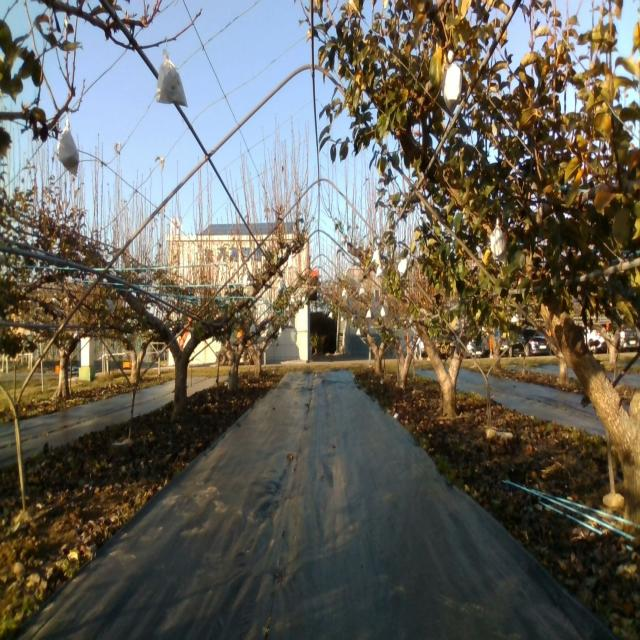pearbags: (154, 49, 188, 114), (56, 116, 80, 170), (442, 62, 462, 112), (490, 224, 506, 264)
